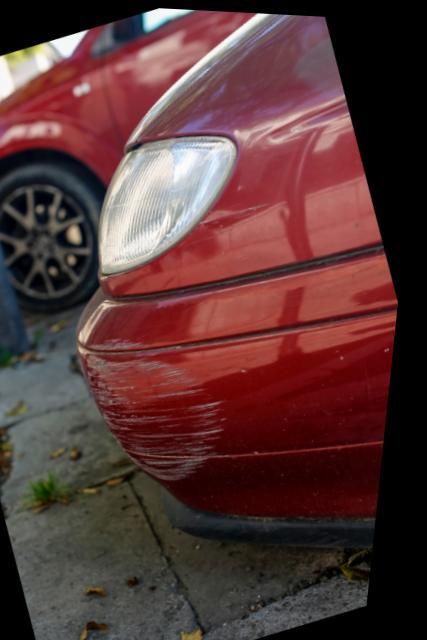rub: (93, 335, 237, 480)
